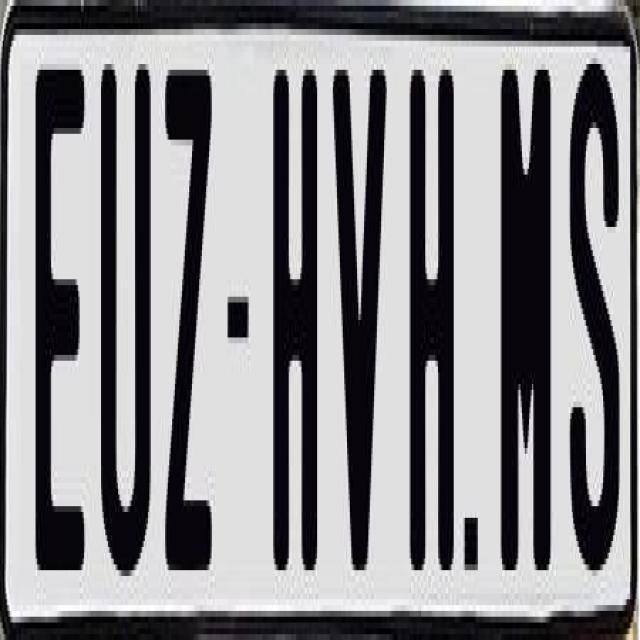E: (34, 58, 90, 558)
H: (405, 58, 457, 594), (273, 58, 324, 576)
M: (500, 64, 551, 594)
S: (569, 58, 613, 588)
U: (100, 64, 157, 576)
V: (329, 64, 391, 594)
Z: (165, 70, 217, 594)
